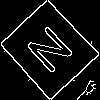N: (24, 24, 82, 82)
